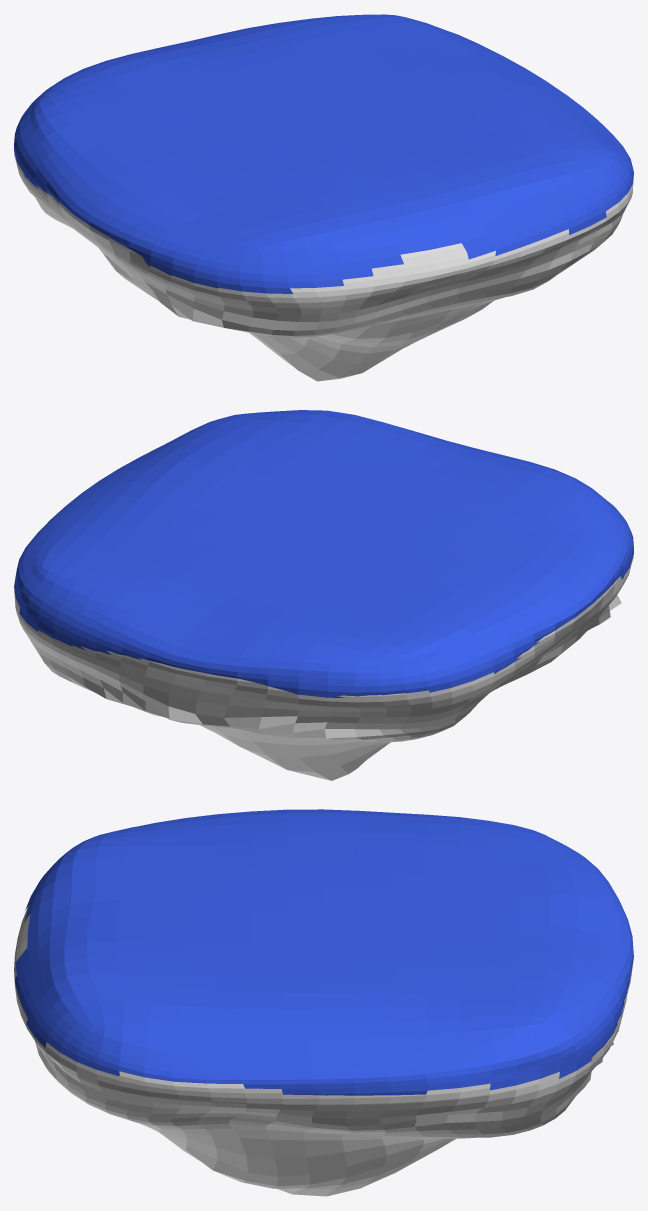
File: MapGreen.fbx
3 views of the same model, one above another, from view 1: azimuth 30°, elevation 25°; view 2: azimuth 150°, elevation 25°; view 3: azimuth 270°, elevation 25° (orthographic). The views are drawn at different scales.
Visible parts, largest first — view 1: Cube.001, Cube; view 2: Cube.001, Cube; view 3: Cube.001, Cube.
Part boxes in pixels (<box>): Cube.001: <box>14,14,633,293</box>; Cube: <box>14,153,633,381</box>; Cube.001: <box>14,410,633,697</box>; Cube: <box>14,555,633,780</box>; Cube.001: <box>14,809,633,1095</box>; Cube: <box>14,905,633,1196</box>.
Bounding box in the file's own units: 996 × 494 × 995.
